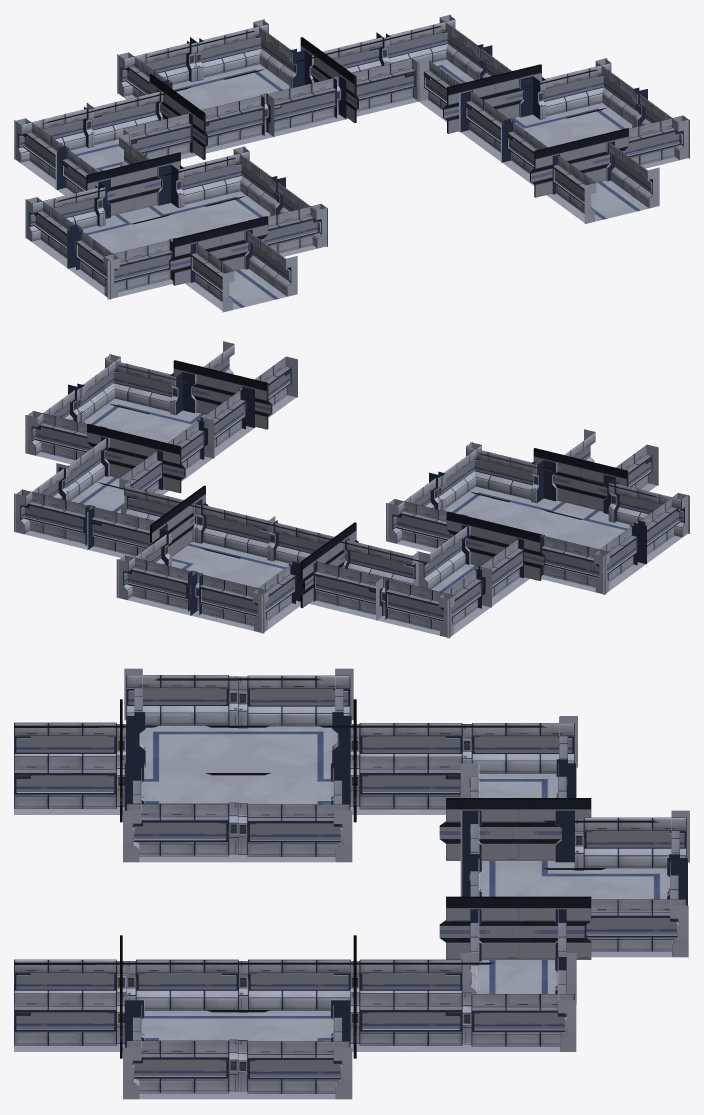
The model's file is PasillosOrganizados.fbx.
3 renders of one model, top to bottom at view 1: azimuth 30°, elevation 25°; view 2: azimuth 150°, elevation 25°; view 3: azimuth 270°, elevation 25°, orthographic. The views are drawn at different scales.
Parts seen in each view (by area): view 1: Mod01_Walls.003, Mod04_Wall.005, Mod04_Wall.002, Mod04_Wall.008, Mod01_Walls.004, Mod04_Wall.004, Mod04_Wall.003, Mod01_Walls.001, Mod01_Walls.006, Mod04_Wall.009, Mod04_Wall.010, Mod04_Wall.007 (+32 smaller); view 2: Mod01_Walls.003, Mod04_Wall.006, Mod04_Wall.009, Mod04_Wall.001, Mod04_Wall.007, Mod04_Wall.005, Mod04_Wall.003, Mod04_Wall.004, Mod04_Wall.010, Mod01_Walls.004, Mod01_Walls.002, Mod04_Wall.008 (+32 smaller); view 3: Mod01_Walls.005, Mod01_Walls.006, Mod01_Walls.001, Mod01_Walls.002, Mod04_Wall.001, Mod04_Wall.007, Mod04_Wall.002, Mod04_Wall.008, Mod04_Wall.003, Mod04_Wall.010, Mod04_Wall.004, Mod04_Wall.006 (+26 smaller).
Boxes of the visible parts, x1=… form: Mod01_Walls.003: x1=86, y1=89, x2=192, y2=160; Mod04_Wall.005: x1=190, y1=19, x2=305, y2=88; Mod04_Wall.002: x1=171, y1=146, x2=285, y2=215; Mod04_Wall.008: x1=533, y1=58, x2=647, y2=127; Mod01_Walls.004: x1=304, y1=32, x2=419, y2=118; Mod04_Wall.004: x1=67, y1=227, x2=175, y2=299; Mod04_Wall.003: x1=25, y1=182, x2=105, y2=268; Mod01_Walls.001: x1=190, y1=229, x2=297, y2=312; Mod01_Walls.006: x1=552, y1=141, x2=659, y2=223; Mod04_Wall.009: x1=14, y1=106, x2=94, y2=189; Mod04_Wall.010: x1=377, y1=14, x2=491, y2=80; Mod04_Wall.007: x1=610, y1=89, x2=689, y2=164; Mod01_Walls.003: x1=313, y1=538, x2=419, y2=620; Mod04_Wall.006: x1=190, y1=561, x2=302, y2=633; Mod04_Wall.009: x1=379, y1=566, x2=485, y2=638; Mod04_Wall.001: x1=429, y1=442, x2=543, y2=511; Mod04_Wall.007: x1=69, y1=354, x2=182, y2=423; Mod04_Wall.005: x1=116, y1=529, x2=197, y2=615; Mod04_Wall.003: x1=539, y1=522, x2=642, y2=594; Mod04_Wall.004: x1=608, y1=478, x2=689, y2=564; Mod04_Wall.010: x1=14, y1=466, x2=95, y2=549; Mod01_Walls.004: x1=87, y1=481, x2=201, y2=556; Mod01_Walls.002: x1=417, y1=525, x2=523, y2=607; Mod04_Wall.008: x1=25, y1=384, x2=106, y2=460; Mod01_Walls.005: x1=350, y1=959, x2=462, y2=1045; Mod01_Walls.006: x1=14, y1=959, x2=126, y2=1045; Mod01_Walls.001: x1=14, y1=722, x2=126, y2=808; Mod01_Walls.002: x1=350, y1=723, x2=462, y2=809; Mod04_Wall.001: x1=123, y1=763, x2=237, y2=862; Mod04_Wall.007: x1=123, y1=1000, x2=237, y2=1099; Mod04_Wall.002: x1=238, y1=763, x2=352, y2=862; Mod04_Wall.008: x1=238, y1=1000, x2=352, y2=1099; Mod04_Wall.003: x1=238, y1=668, x2=353, y2=763; Mod04_Wall.010: x1=462, y1=953, x2=576, y2=1051; Mod04_Wall.004: x1=124, y1=668, x2=238, y2=767; Mod04_Wall.006: x1=574, y1=810, x2=689, y2=905.
Size of the model in its own units: 11280 by 853 by 8440.
Materials: 17 (15 with a texture image).
